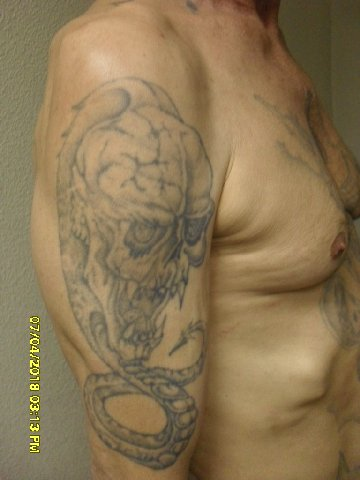tatu7_zmeya: (52, 78, 222, 450)
